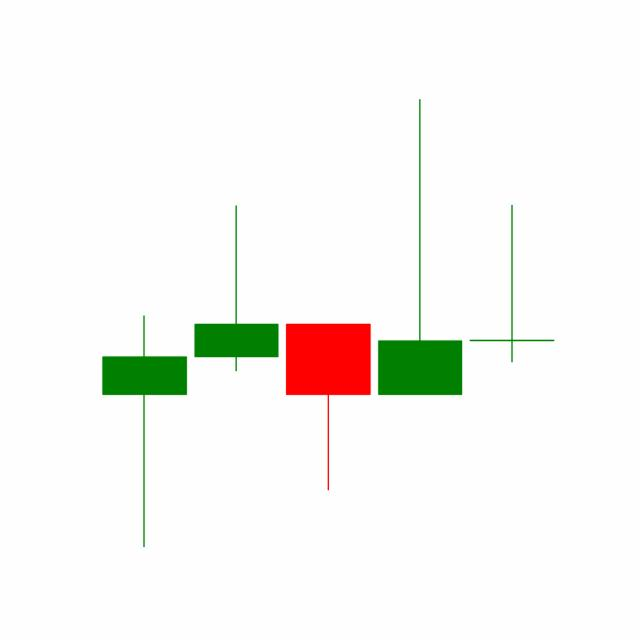Gravestone Doji: (464, 202, 558, 364)
